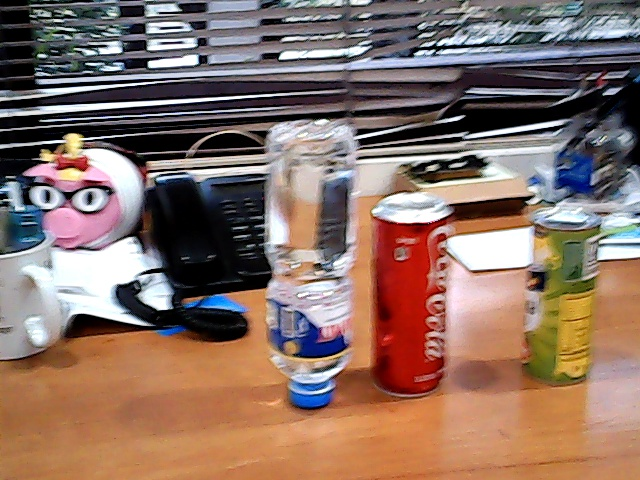Cola: (360, 188, 465, 408)
Pine Juice: (510, 188, 607, 397)
Summit Water: (250, 116, 370, 424)
